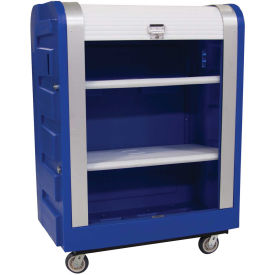Carts: (30, 2, 246, 273)
